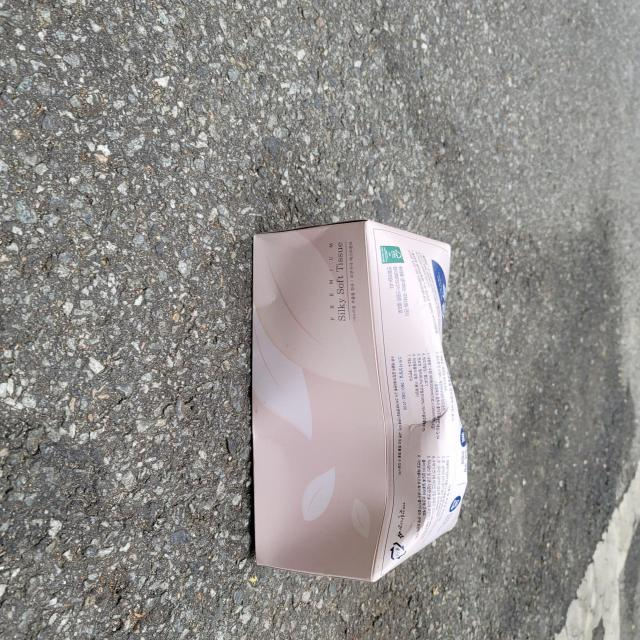paperpack: (252, 221, 468, 582)
